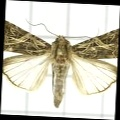Spodoptera litura: (3, 18, 117, 109)
